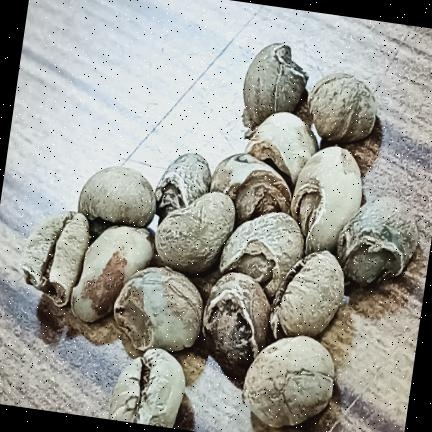cut: (242, 335, 334, 427), (71, 226, 153, 322), (290, 146, 361, 255), (114, 267, 203, 351), (337, 196, 418, 286), (219, 212, 303, 298), (155, 191, 235, 273), (270, 250, 344, 338), (202, 272, 270, 366), (22, 211, 89, 306), (108, 348, 185, 428), (210, 153, 291, 224), (244, 112, 318, 187), (77, 166, 155, 237), (243, 43, 308, 124), (307, 73, 376, 142), (45, 213, 89, 306), (154, 153, 211, 222)
